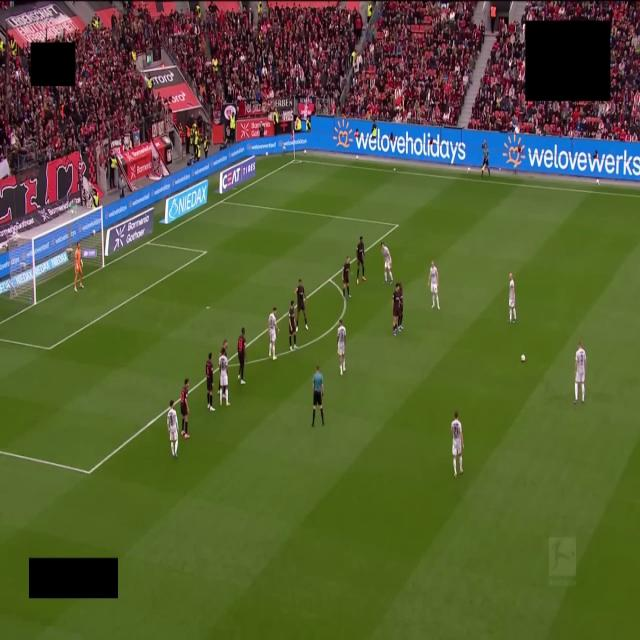ball: (521, 354, 525, 362)
player: (451, 411, 463, 477), (574, 343, 586, 404), (167, 400, 179, 458), (180, 378, 190, 439), (295, 280, 307, 329), (219, 348, 229, 406), (268, 307, 278, 360), (337, 319, 346, 375), (74, 242, 84, 292), (206, 352, 214, 411), (238, 328, 246, 384), (430, 261, 439, 310), (381, 243, 392, 283), (289, 300, 297, 351), (357, 237, 365, 284), (392, 284, 399, 335), (509, 273, 516, 322), (343, 256, 350, 297), (398, 282, 403, 332), (221, 339, 227, 351)
referee: (312, 366, 324, 426)
